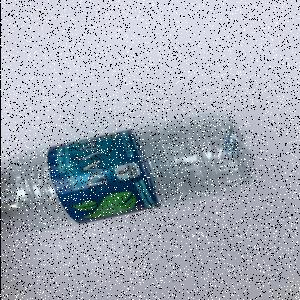Plastic-bottle: (2, 112, 258, 234)
